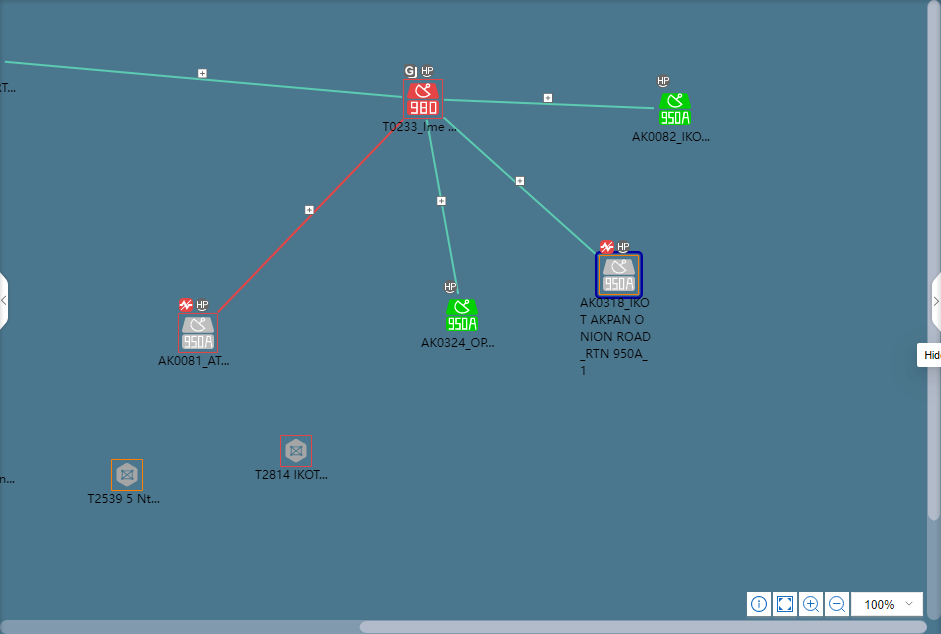Link_Blue: (444, 114, 593, 251), (38, 61, 407, 101), (426, 135, 457, 292), (444, 96, 660, 113)
Link_Red: (215, 120, 398, 311)
RTN_Gray: (597, 255, 637, 295), (179, 314, 219, 354)
RTN_Green: (444, 296, 476, 330), (662, 91, 690, 123)
RTN_Red: (403, 79, 440, 119)
